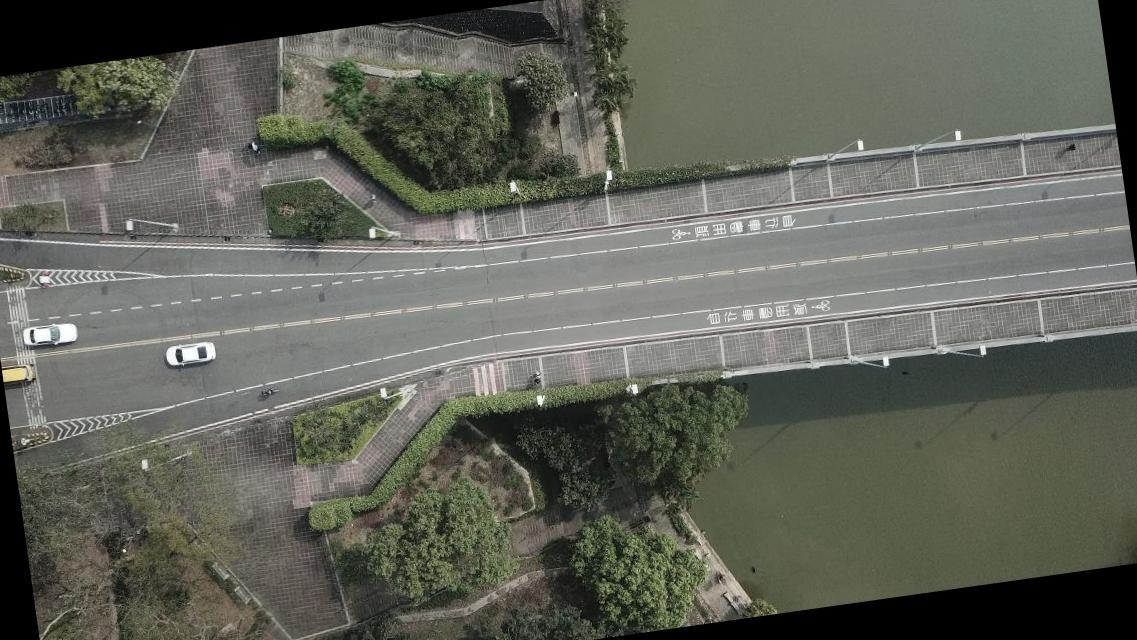vehicle: (21, 320, 78, 351), (164, 340, 216, 370), (2, 362, 35, 386)
